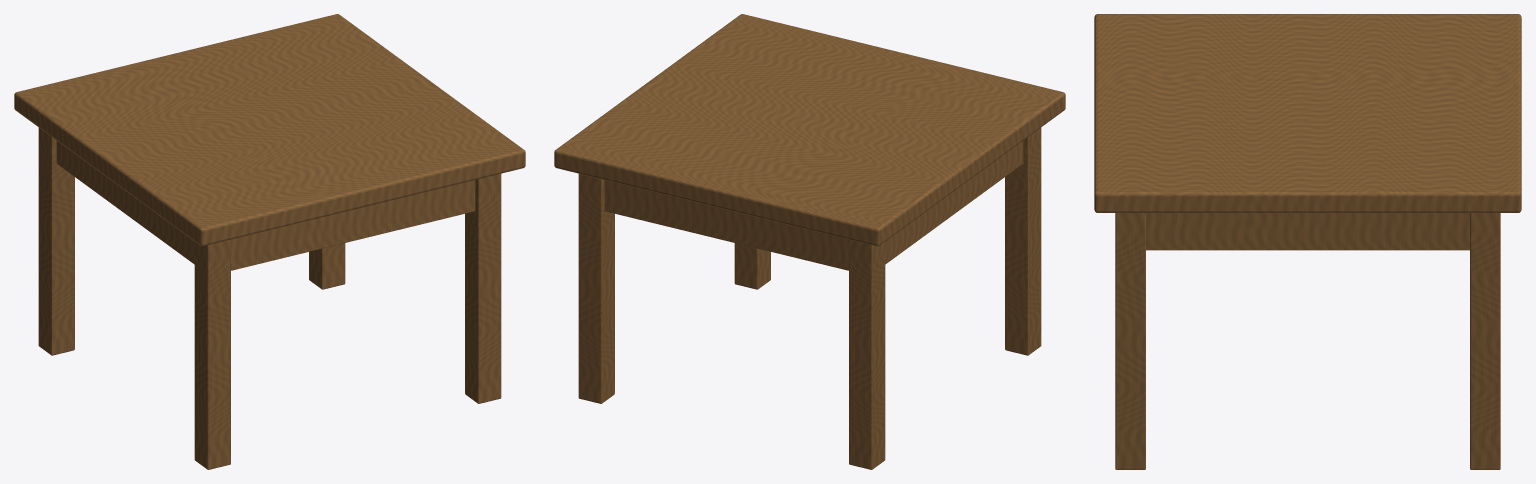
Rendered from low-table.glb.
The picture shows the model from 3 angles, left to right: view 1: azimuth 30°, elevation 25°; view 2: azimuth 150°, elevation 25°; view 3: azimuth 270°, elevation 25°; orthographic projection. The views are drawn at different scales.
Visible parts, largest first — view 1: low-table · oak.001; view 2: low-table · oak.001; view 3: low-table · oak.001.
Part boxes in pixels (<box>): low-table · oak.001: <box>14,14,525,469</box>; low-table · oak.001: <box>554,14,1065,469</box>; low-table · oak.001: <box>1094,14,1521,469</box>.
Size of the model in its own units: 0.65 by 0.48 by 0.65.
Materials: 1 (1 with a texture image).
